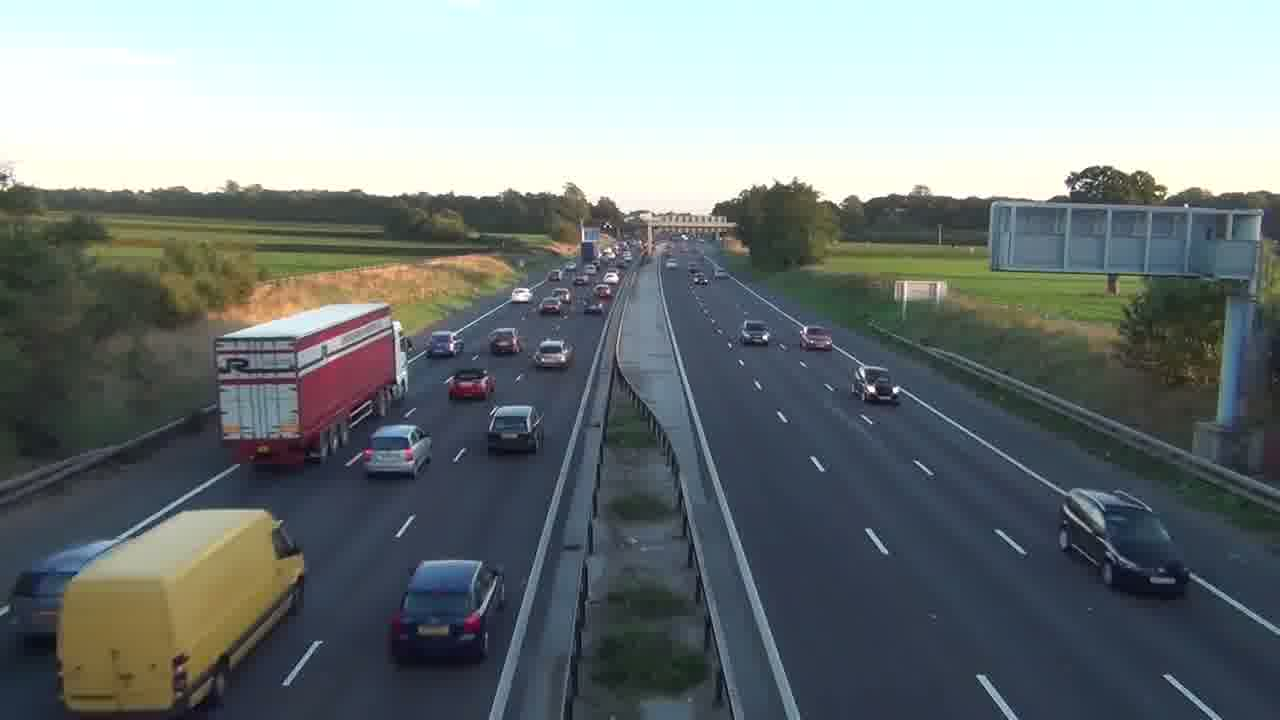car: (1056, 486, 1190, 597), (386, 558, 505, 665), (486, 403, 545, 454), (446, 368, 496, 401), (532, 338, 574, 370), (489, 327, 520, 356), (740, 320, 772, 346)
truck: (54, 506, 307, 713), (212, 299, 404, 467)
